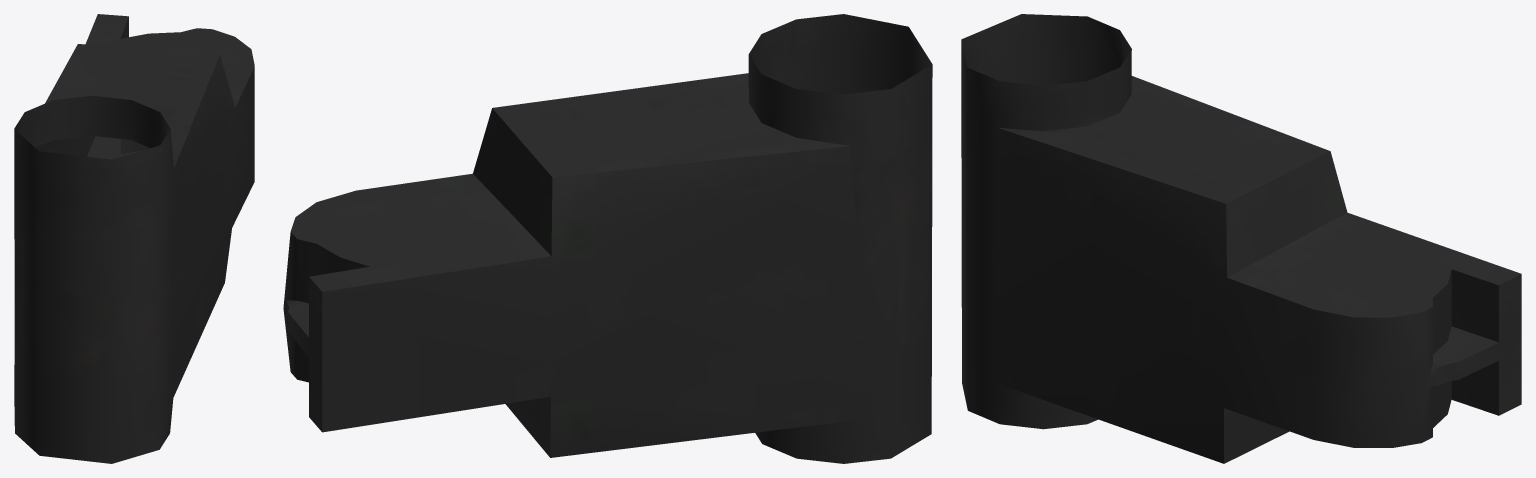
File: gripper_left_7.dae
3 views of the same model, side by side, from view 1: azimuth 30°, elevation 25°; view 2: azimuth 150°, elevation 25°; view 3: azimuth 270°, elevation 25° (orthographic). The views are drawn at different scales.
Visible parts, largest first — view 1: gripper_left_7; view 2: gripper_left_7; view 3: gripper_left_7.
Part boxes in pixels (x1,y1,x2,y2): gripper_left_7: (14, 14, 254, 463); gripper_left_7: (283, 14, 932, 463); gripper_left_7: (961, 14, 1521, 463).
Bounding box in the file's own units: 0.0241 × 0.0288 × 0.0195.
